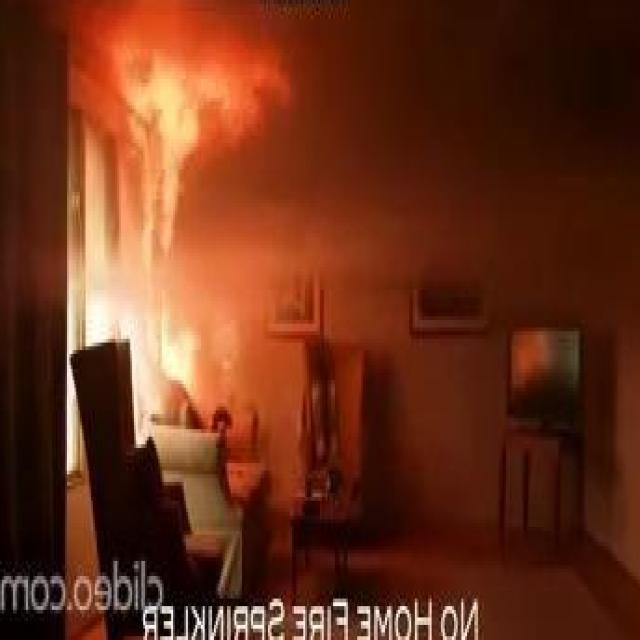smoke: (125, 15, 278, 166), (156, 305, 199, 388), (152, 169, 182, 256)
